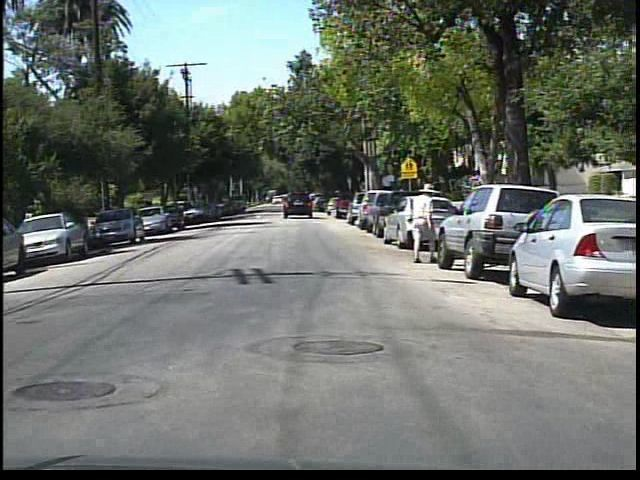person: (402, 182, 445, 267)
